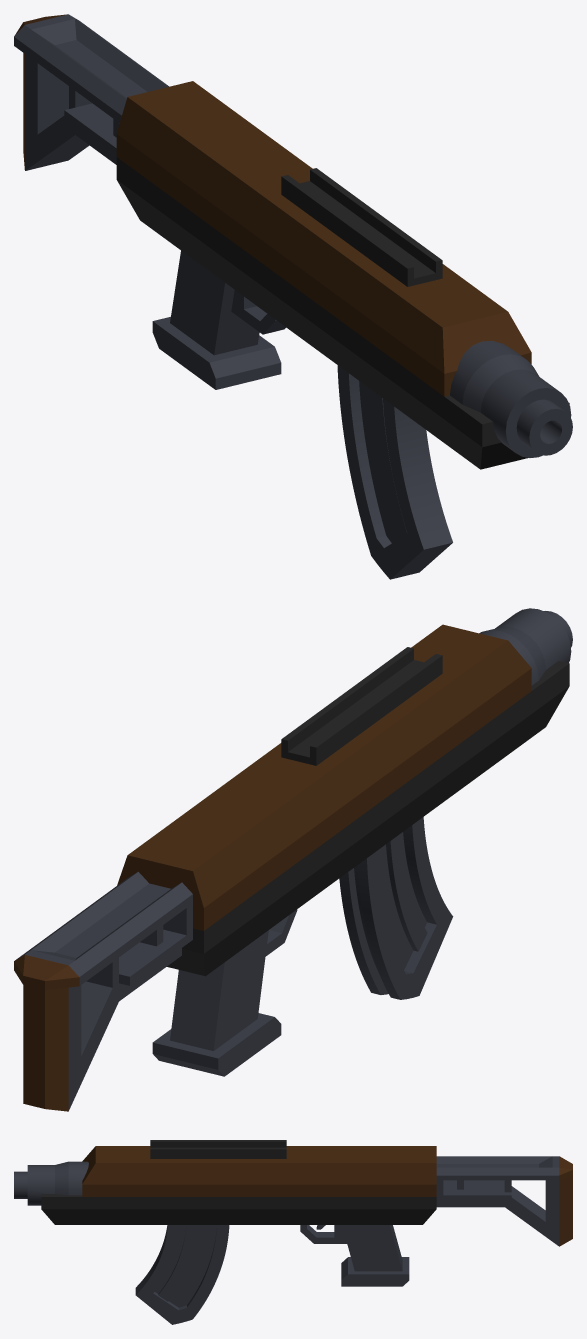
The picture shows the model from 3 angles, top to bottom: view 1: azimuth 30°, elevation 25°; view 2: azimuth 150°, elevation 25°; view 3: azimuth 270°, elevation 25°; orthographic projection. The views are drawn at different scales.
Visible parts, largest first — view 1: mediumBlaster_handle, mediumBlaster_barrelLarge, mediumBlaster_center, stock_stealth, clip_banana, detailRail, mediumBlaster_back; view 2: mediumBlaster_handle, stock_stealth, mediumBlaster_barrelLarge, mediumBlaster_center, clip_banana, mediumBlaster_back, detailRail; view 3: mediumBlaster_handle, mediumBlaster_barrelLarge, mediumBlaster_center, stock_stealth, clip_banana, detailRail, mediumBlaster_back.
Boxes of the visible parts, left/top/right/bottom form: mediumBlaster_handle: left=141, top=99, right=312, bottom=389; mediumBlaster_barrelLarge: left=381, top=275, right=572, bottom=469; mediumBlaster_center: left=255, top=195, right=457, bottom=404; stock_stealth: left=14, top=14, right=168, bottom=170; clip_banana: left=337, top=365, right=452, bottom=579; detailRail: left=281, top=168, right=442, bottom=286; mediumBlaster_back: left=116, top=81, right=217, bottom=229; mediumBlaster_handle: left=152, top=744, right=355, bottom=1076; stock_stealth: left=14, top=871, right=192, bottom=1111; mediumBlaster_barrelLarge: left=411, top=608, right=572, bottom=791; mediumBlaster_center: left=279, top=673, right=468, bottom=874; clip_banana: left=339, top=817, right=453, bottom=999; mediumBlaster_back: left=117, top=837, right=228, bottom=976; detailRail: left=281, top=647, right=442, bottom=765; mediumBlaster_handle: left=273, top=1146, right=409, bottom=1286; mediumBlaster_barrelLarge: left=14, top=1146, right=150, bottom=1224; mediumBlaster_center: left=150, top=1159, right=286, bottom=1224; stock_stealth: left=436, top=1156, right=572, bottom=1246; clip_banana: left=135, top=1225, right=229, bottom=1324; detailRail: left=150, top=1140, right=286, bottom=1158; mediumBlaster_back: left=409, top=1146, right=436, bottom=1224.
Size of the model in its own units: 4 by 14.28 by 41.
